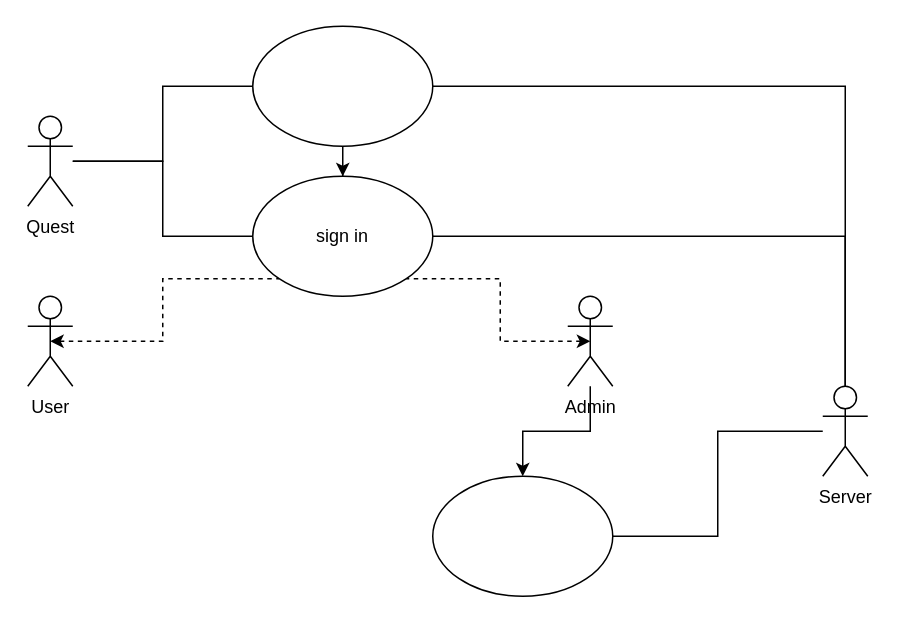
This 897x623 diagram has some shape labels left out. The shapes that lost their labels are listed below. From the top down, each one's centre as x and y in pixels, then its label:
point 342,85: sign up
point 522,535: stat check
